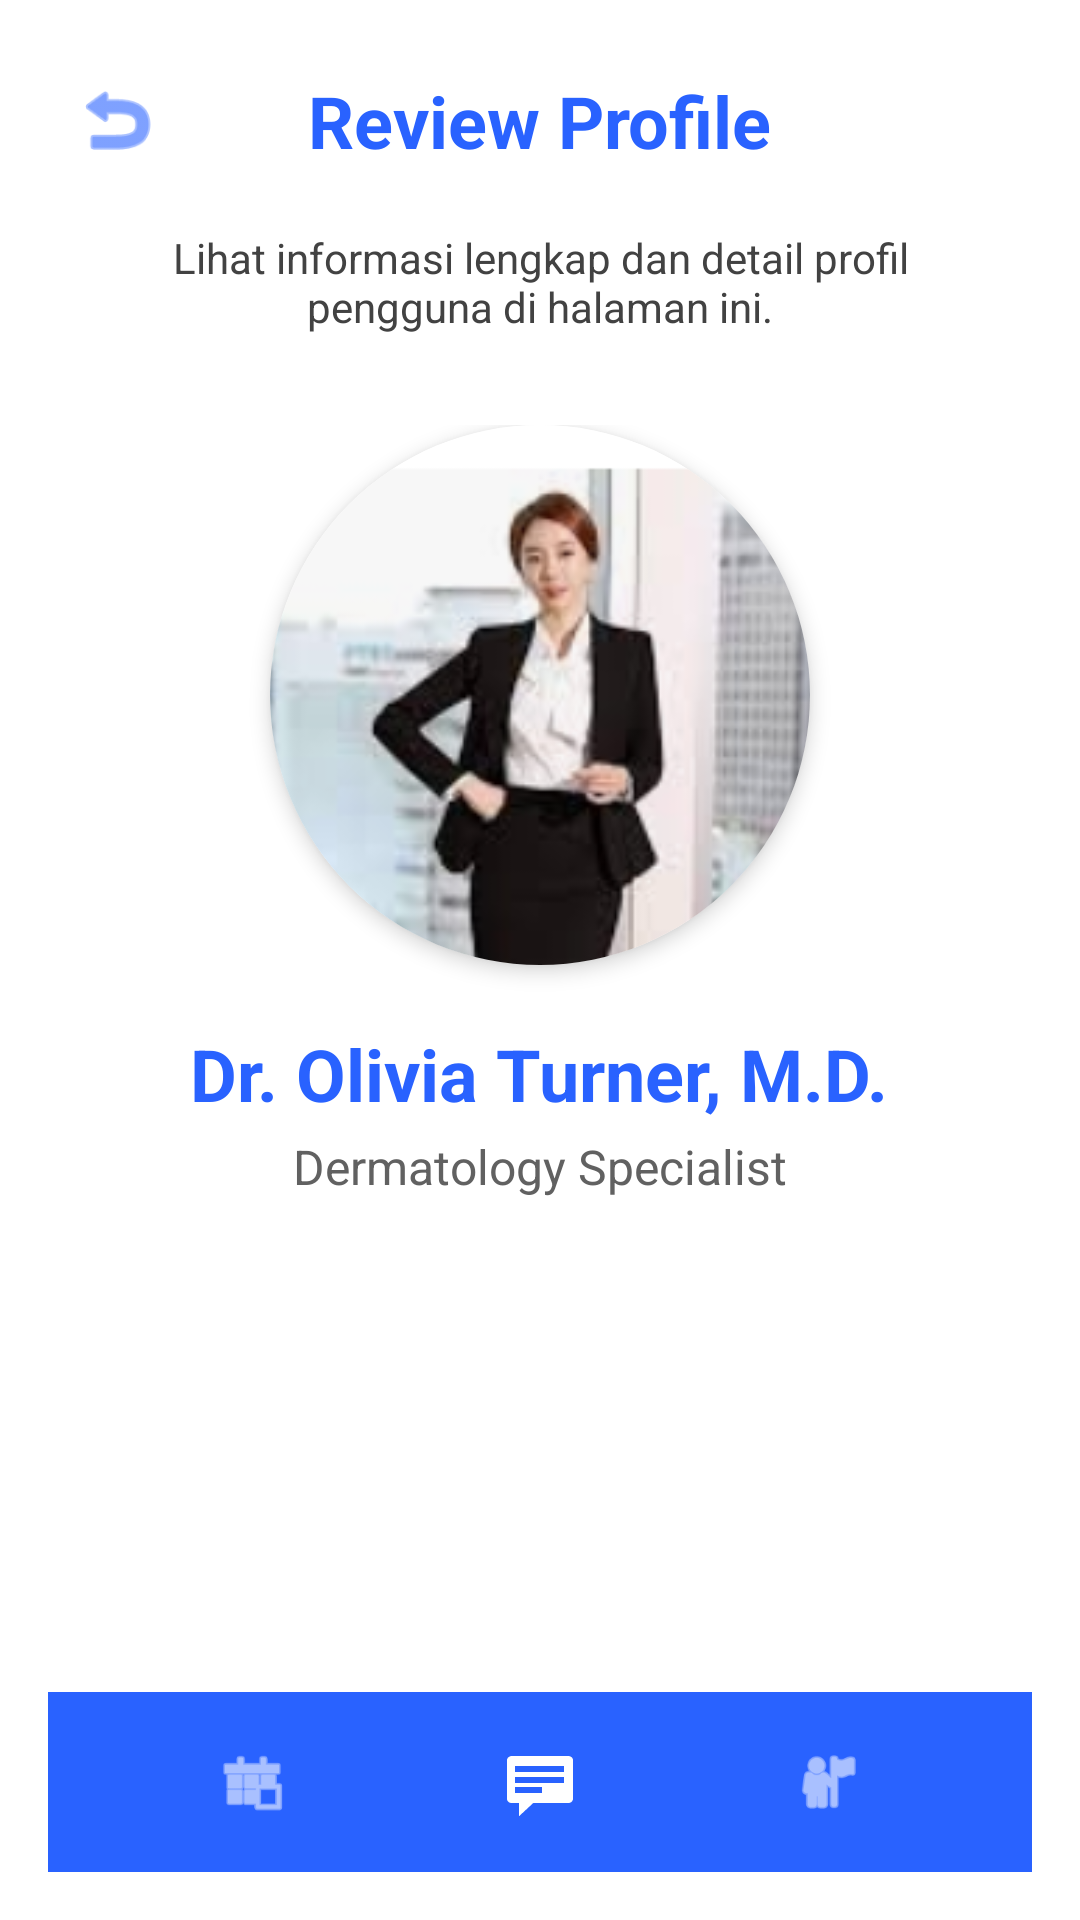

Named icons in this screenshot (1080px x 1920px) and their centers, (x=x, y=y):
chat: (x=540, y=1786)
myplaces: (x=829, y=1782)
revert: (x=118, y=120)
today: (x=252, y=1783)
